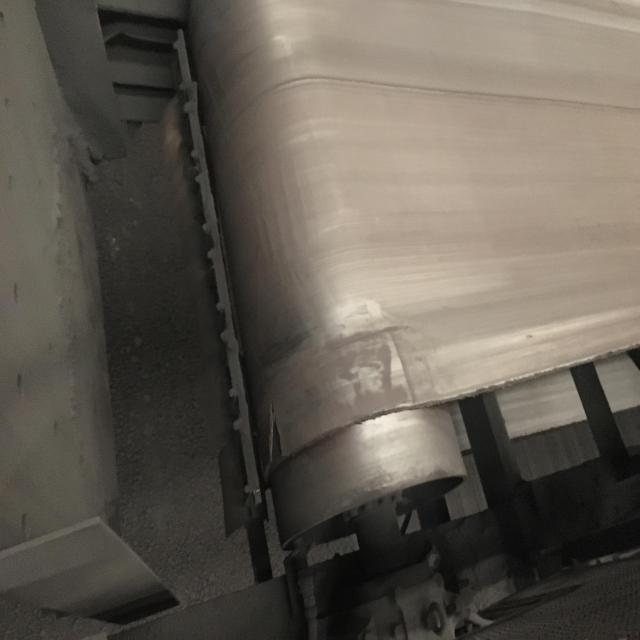Tear: (263, 393, 294, 467)
